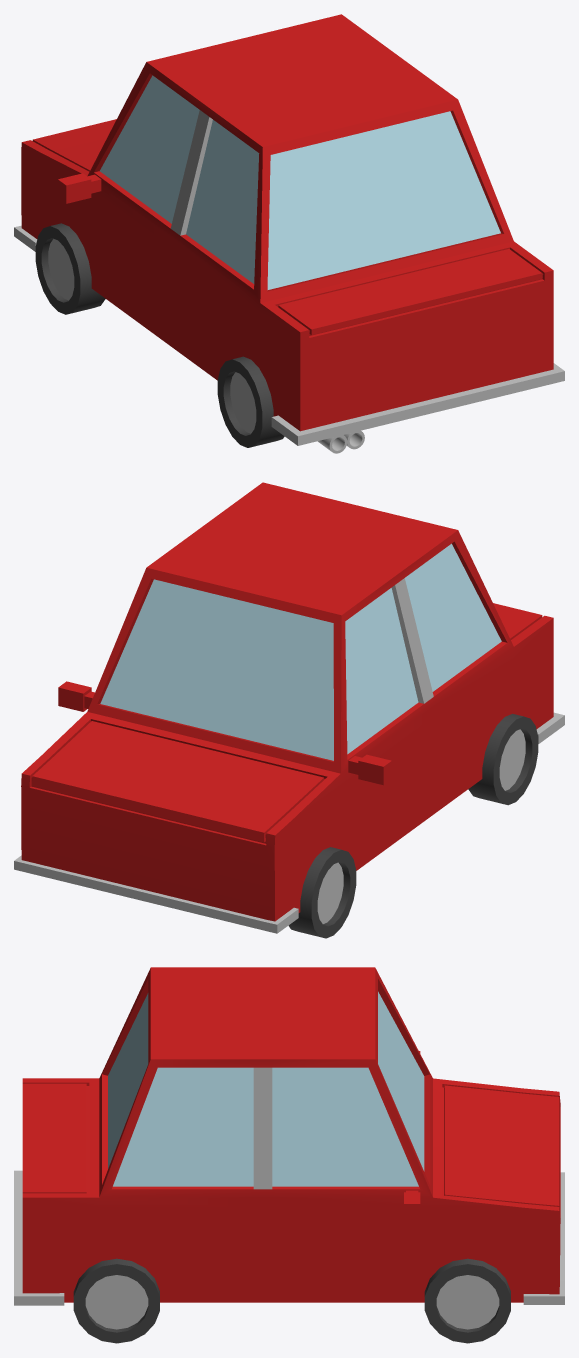
Rendered from M_Car_Other_03.FBX.
The picture shows the model from 3 angles, top to bottom: view 1: azimuth 30°, elevation 25°; view 2: azimuth 150°, elevation 25°; view 3: azimuth 270°, elevation 25°; orthographic projection. The views are drawn at different scales.
Visible parts, largest first — view 1: Car003; view 2: Car003; view 3: Car003.
Boxes of the visible parts, bbox=[...] form: Car003: bbox=[14, 14, 564, 453]; Car003: bbox=[14, 482, 564, 938]; Car003: bbox=[14, 967, 564, 1343].
Bounding box in the file's own units: 1.44 × 2.18 × 1.16.
